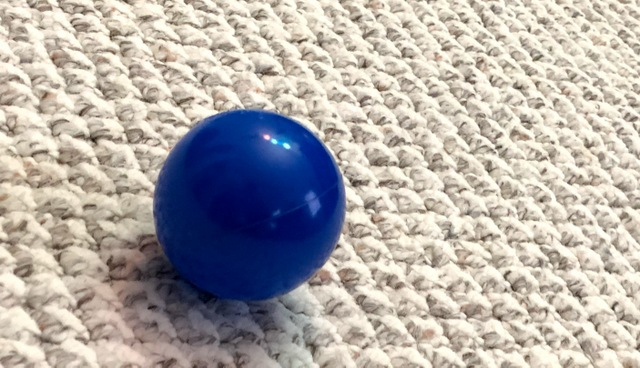Ball: (153, 111, 346, 301)
